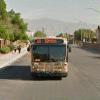Bus: (27, 33, 72, 80)
